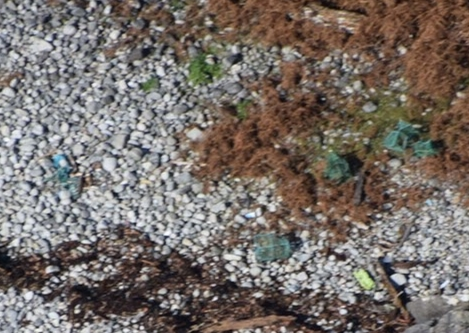net: (384, 116, 442, 161), (34, 154, 81, 196), (252, 230, 298, 266), (318, 147, 354, 183)
straight_bar: (368, 257, 418, 324)
white_in_green: (343, 257, 391, 304)
